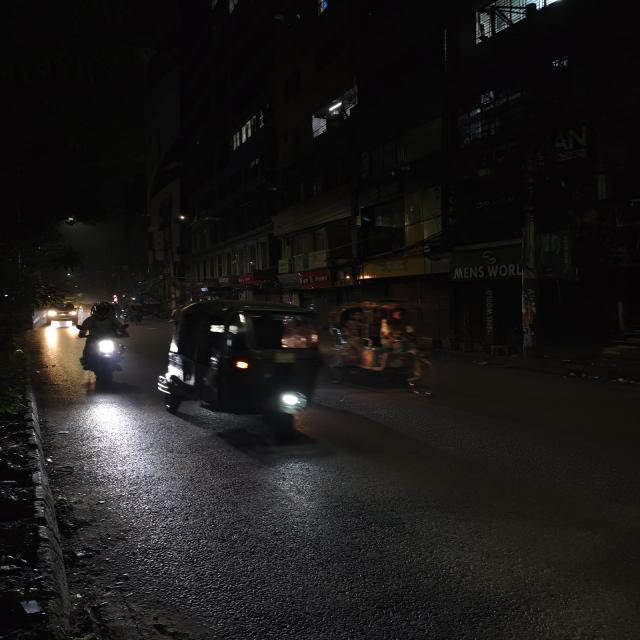car: (44, 300, 80, 330)
cng: (156, 298, 327, 448)
motorcycle: (68, 301, 137, 396)
rickshaw: (328, 300, 442, 396)
